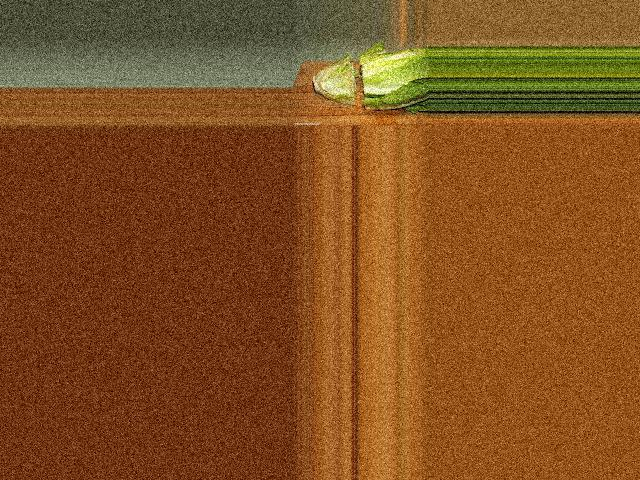lettuce: (314, 44, 427, 117)
